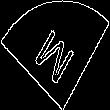M_SW: (30, 21, 80, 89)
